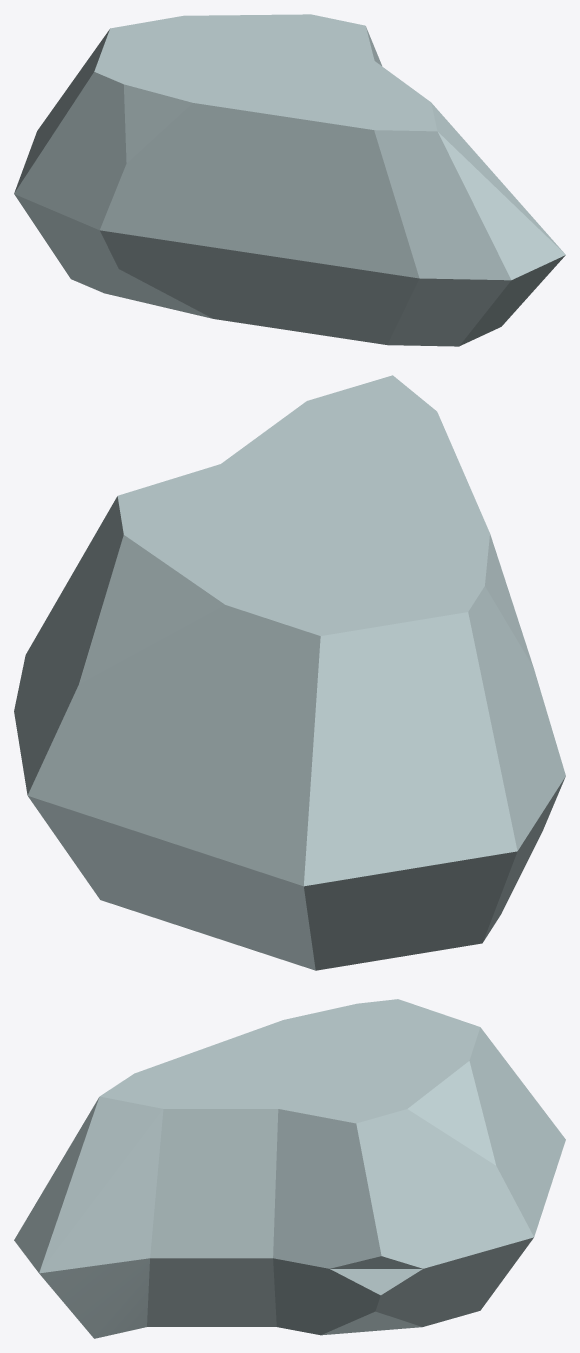
Rendered from stone_largeB.glb.
3 views of the same model, one above another, from view 1: azimuth 30°, elevation 25°; view 2: azimuth 150°, elevation 25°; view 3: azimuth 270°, elevation 25° (orthographic). The views are drawn at different scales.
Visible parts, largest first — view 1: stone_largeB; view 2: stone_largeB; view 3: stone_largeB.
Part boxes in pixels (x1=…): stone_largeB: x1=14, y1=14, x2=565, y2=346; stone_largeB: x1=14, y1=375, x2=565, y2=970; stone_largeB: x1=14, y1=999, x2=565, y2=1338.
Size of the model in its own units: 0.7667 by 0.4303 by 1.02.
